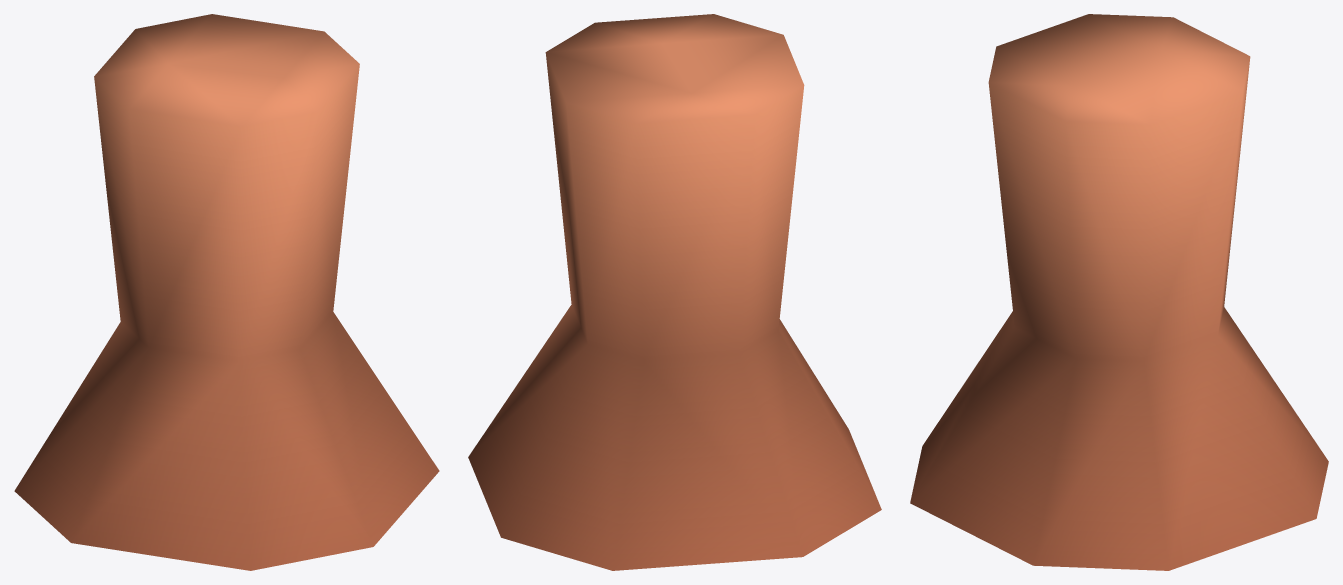
The model's file is wood.glb.
3 renders of one model, left to right at view 1: azimuth 30°, elevation 25°; view 2: azimuth 150°, elevation 25°; view 3: azimuth 270°, elevation 25°, orthographic.
Parts seen in each view (by area): view 1: tree.5; view 2: tree.5; view 3: tree.5.
Part boxes in pixels (<box>): tree.5: <box>14,14,439,570</box>; tree.5: <box>468,14,881,570</box>; tree.5: <box>910,14,1328,570</box>.
Size of the model in its own units: 0.6171 by 0.6716 by 0.6171.
1 material, 1 textured.
